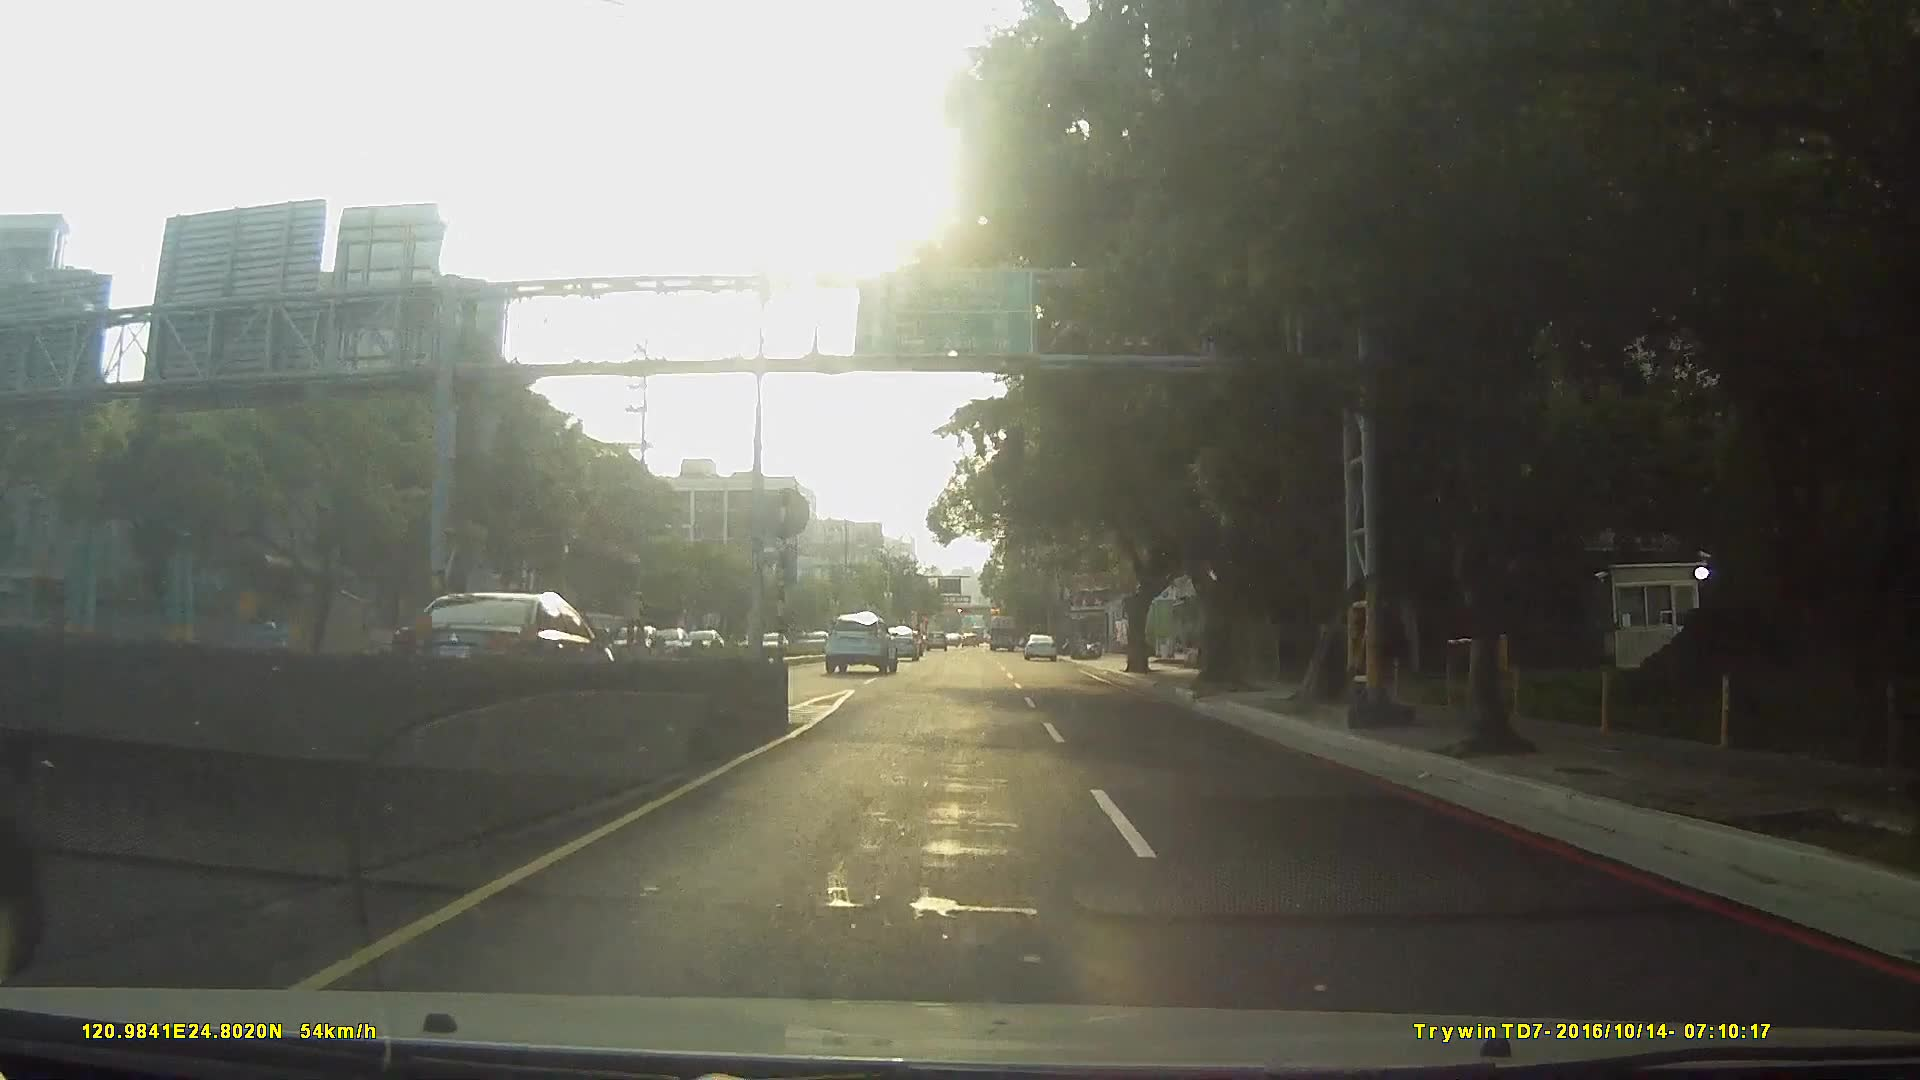vehicle: (392, 589, 616, 698), (822, 611, 895, 675), (877, 622, 920, 659), (986, 611, 1018, 650), (1021, 633, 1058, 662)
